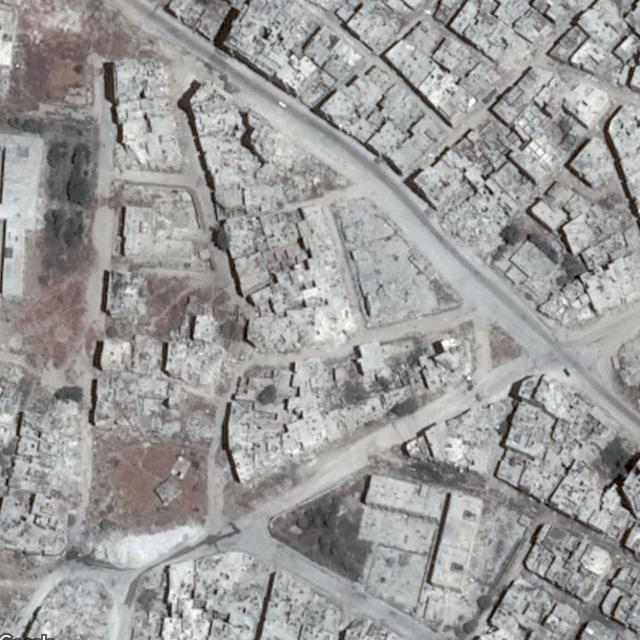damaged_building: (190, 81, 346, 259), (90, 314, 240, 442), (0, 381, 86, 510), (405, 398, 511, 474), (20, 570, 116, 640), (428, 186, 509, 261)
